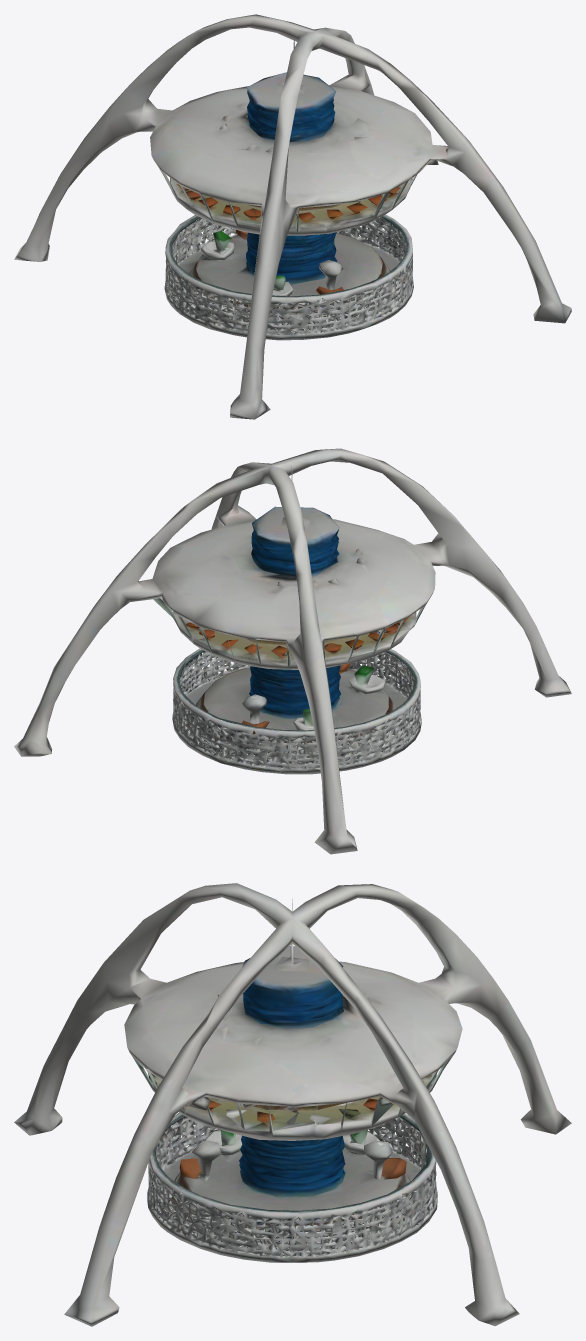
File: lm_theme.glb
The picture shows the model from 3 angles, top to bottom: view 1: azimuth 30°, elevation 25°; view 2: azimuth 150°, elevation 25°; view 3: azimuth 270°, elevation 25°; orthographic projection. The views are drawn at different scales.
Visible parts, largest first — view 1: tripo_node_4bc306bf-caf3-4fcc-a48d-d52866dbe2ae; view 2: tripo_node_4bc306bf-caf3-4fcc-a48d-d52866dbe2ae; view 3: tripo_node_4bc306bf-caf3-4fcc-a48d-d52866dbe2ae.
Part boxes in pixels (box(x1,y1,x2,y2)): tripo_node_4bc306bf-caf3-4fcc-a48d-d52866dbe2ae: box(14, 14, 571, 419); tripo_node_4bc306bf-caf3-4fcc-a48d-d52866dbe2ae: box(14, 448, 571, 854); tripo_node_4bc306bf-caf3-4fcc-a48d-d52866dbe2ae: box(14, 883, 571, 1326).
Bounding box in the file's own units: 0.9004 × 0.6334 × 1.
1 material, 1 textured.
